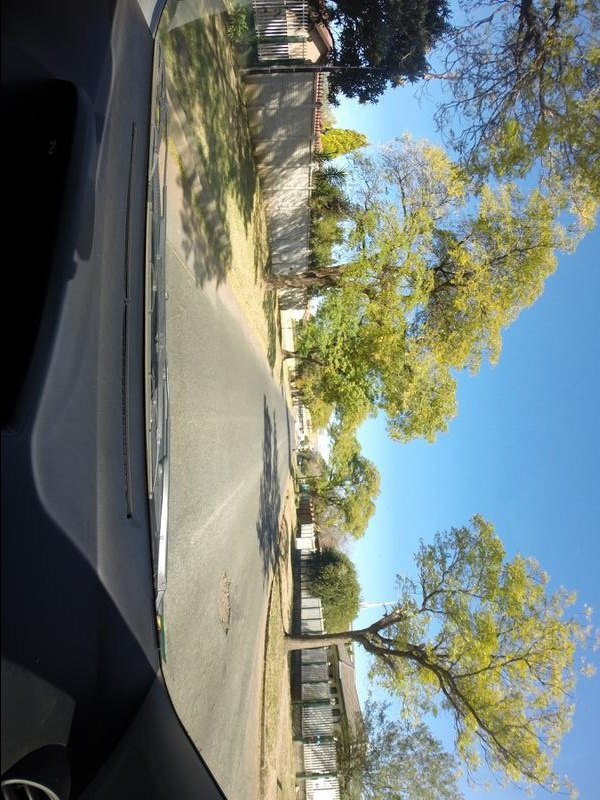pothole: (209, 569, 241, 648)
